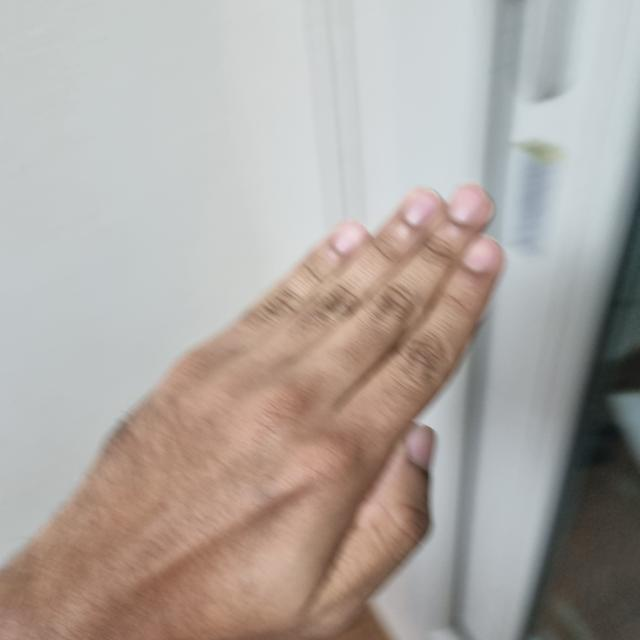Paper: (1, 186, 505, 639)
